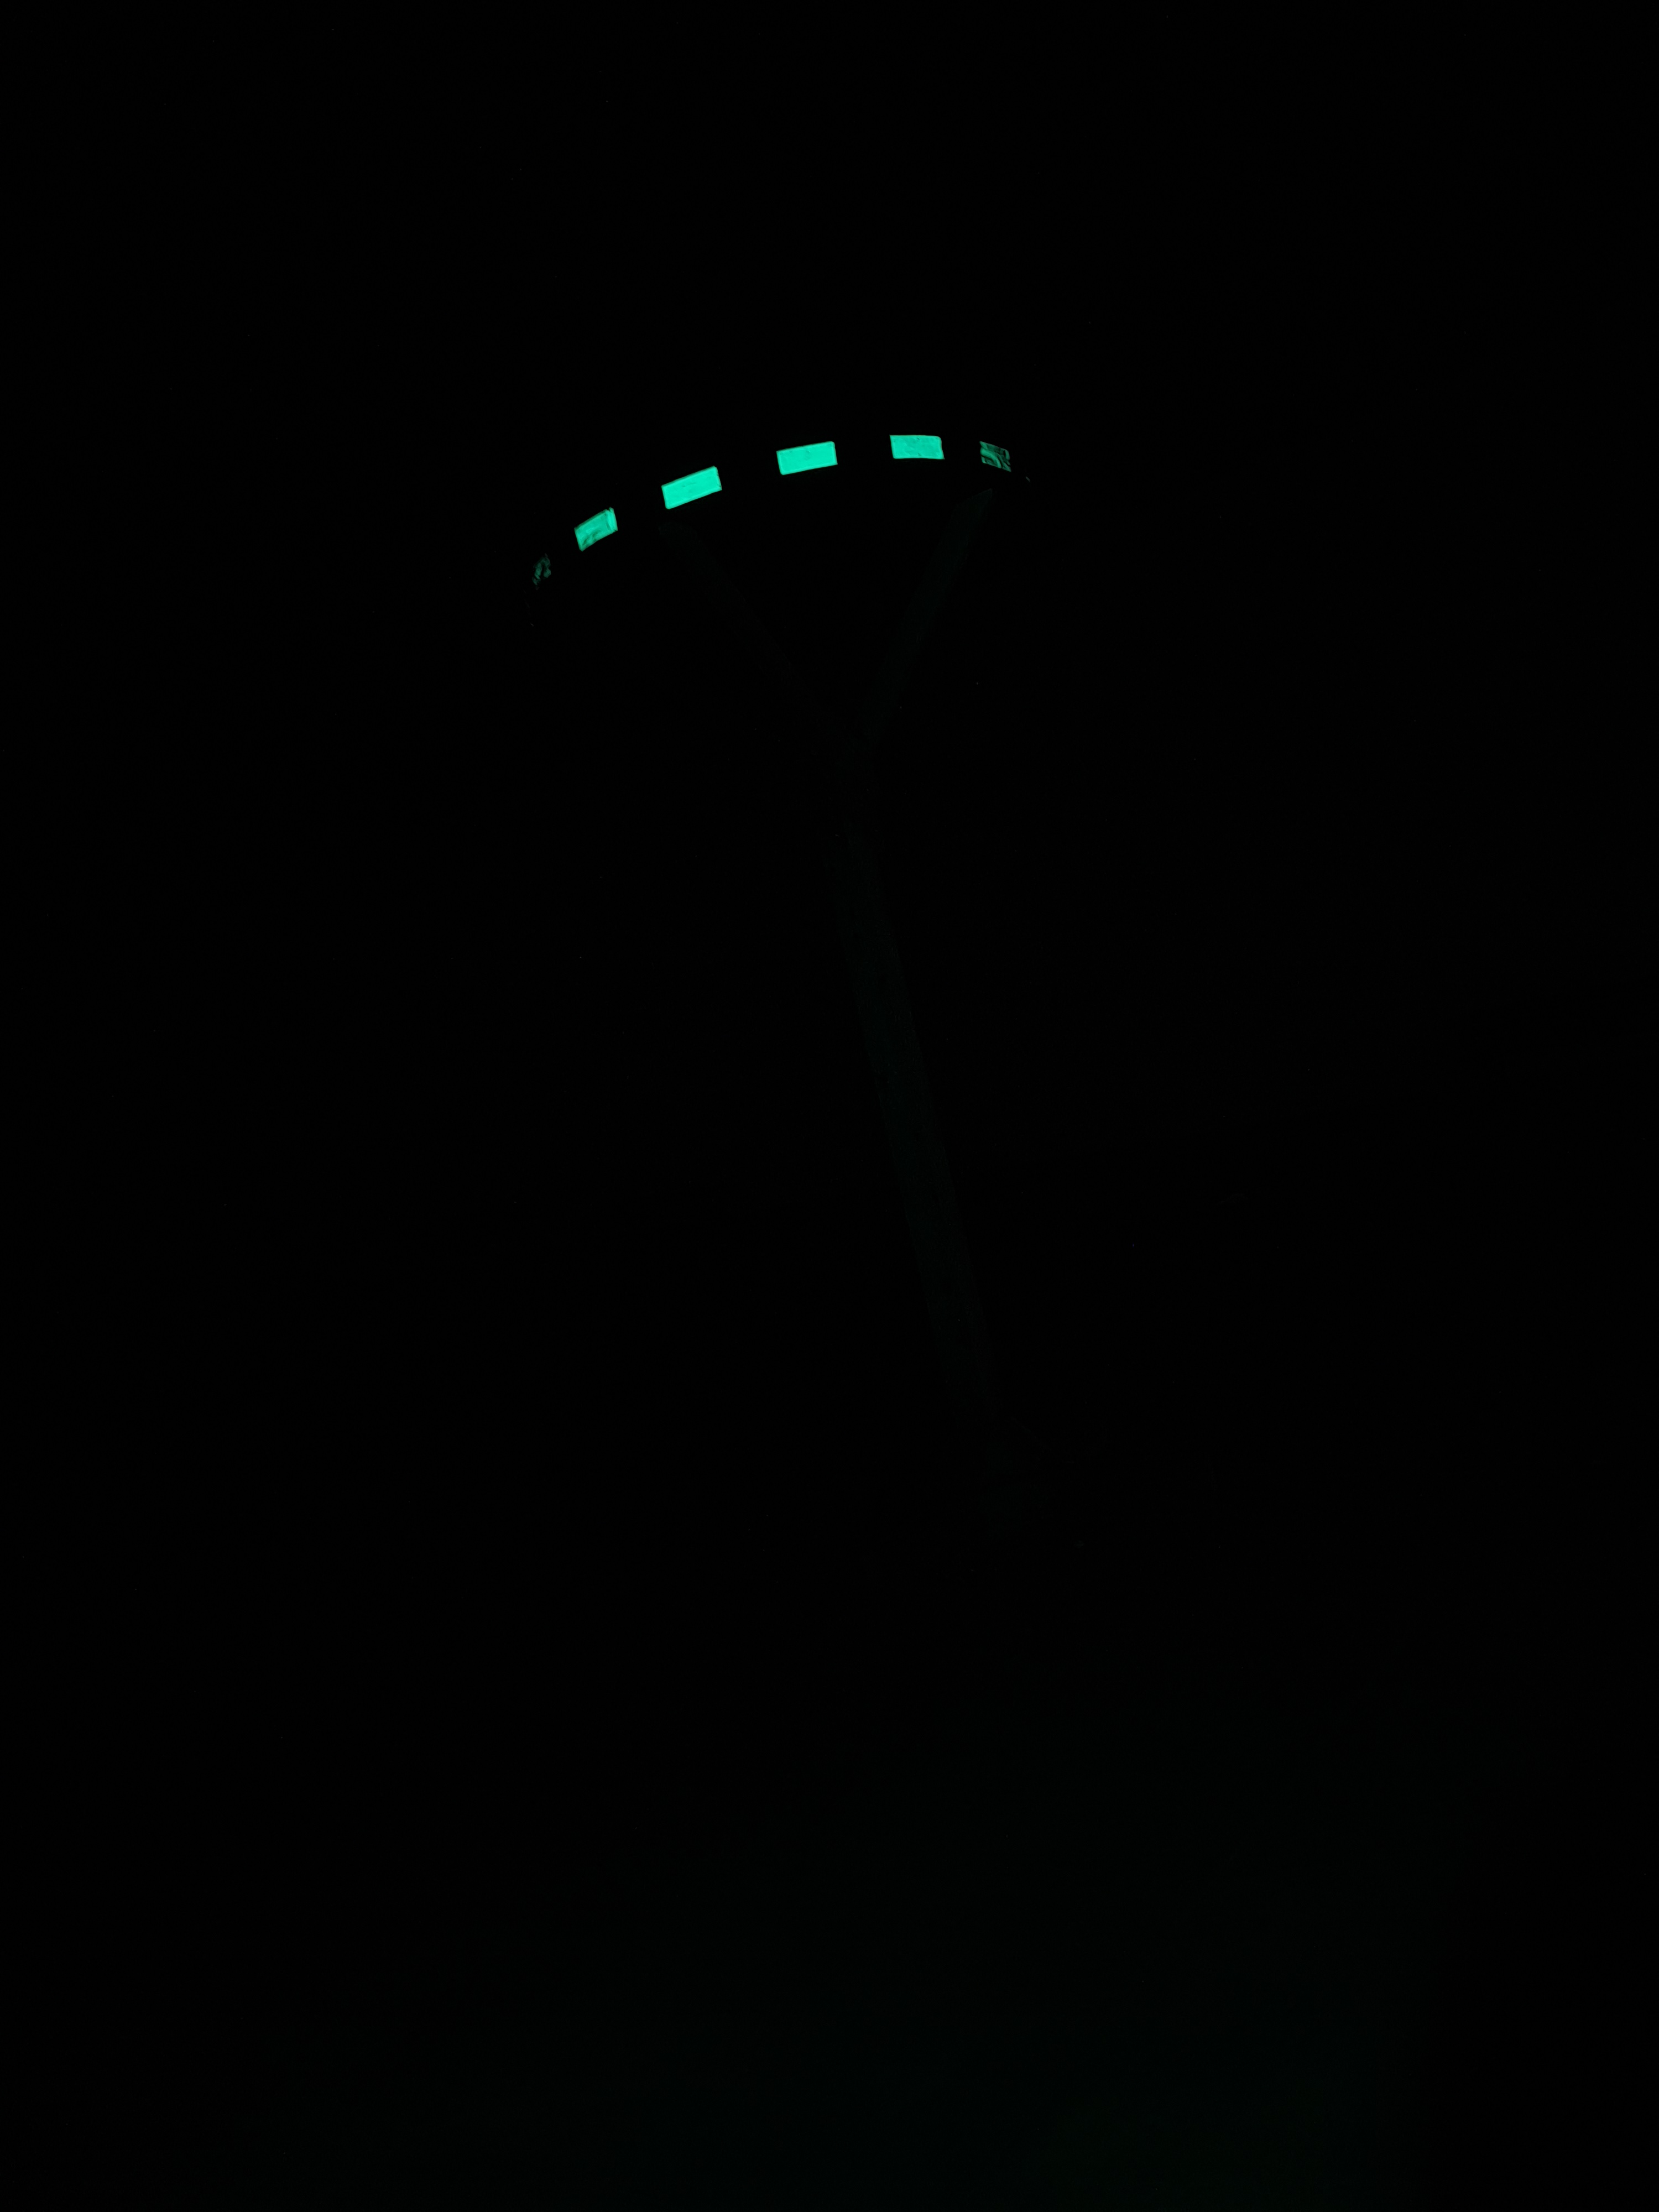hoop: (512, 430, 1016, 589)
